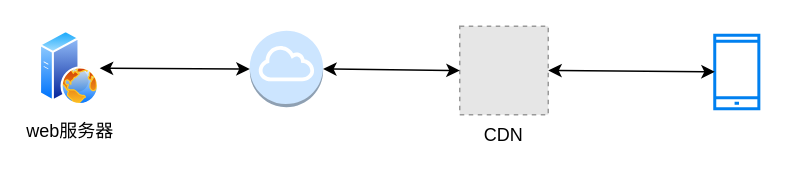
Some shapes in this 786 by 173 pixel diagram are drawn without their labels. Grey dashed boxes stand in for pictures. Here are the shapes that lost their labels. From the top down, the centre of each, then its label:
[285,68]: 网关
[736,71]: APP
